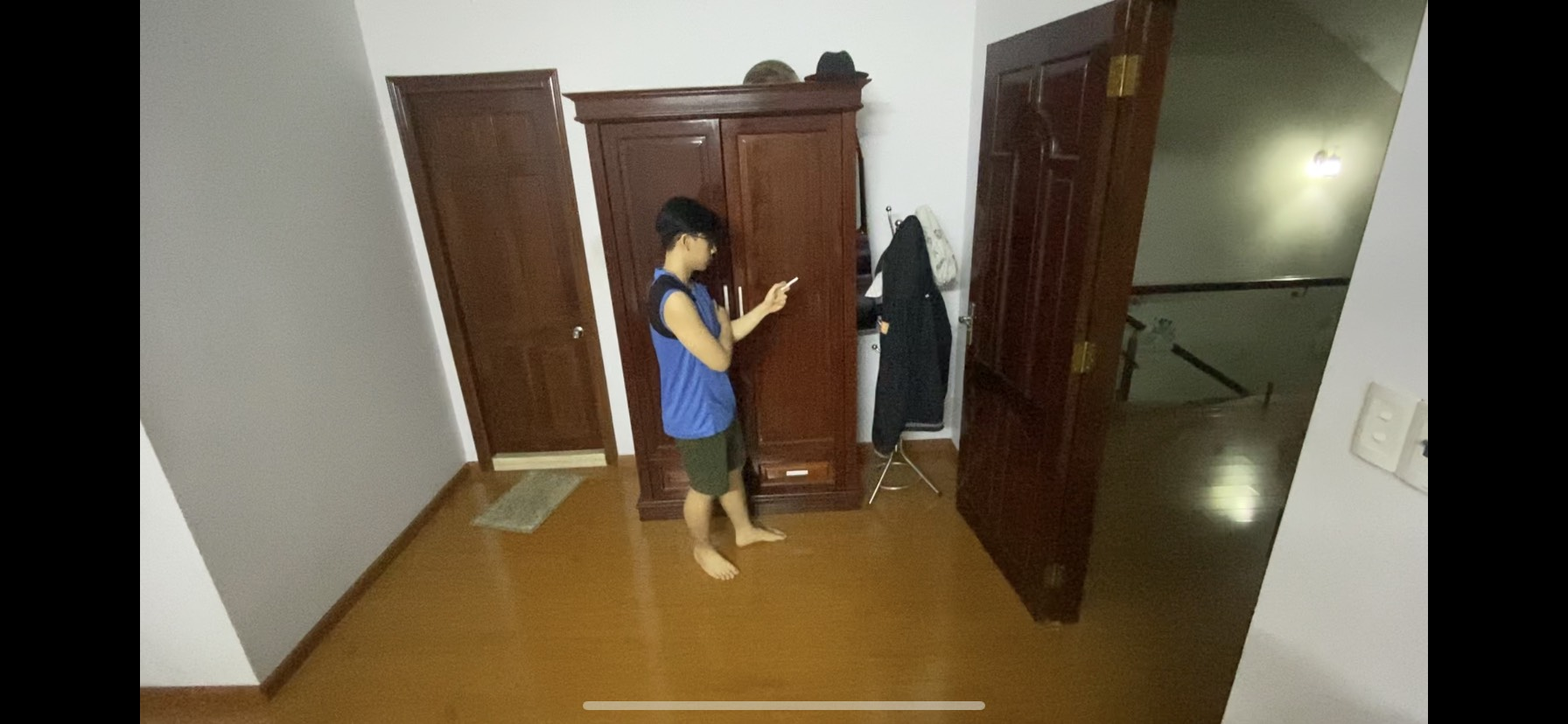cigarette: (787, 276, 801, 286)
person: (618, 189, 798, 584)
